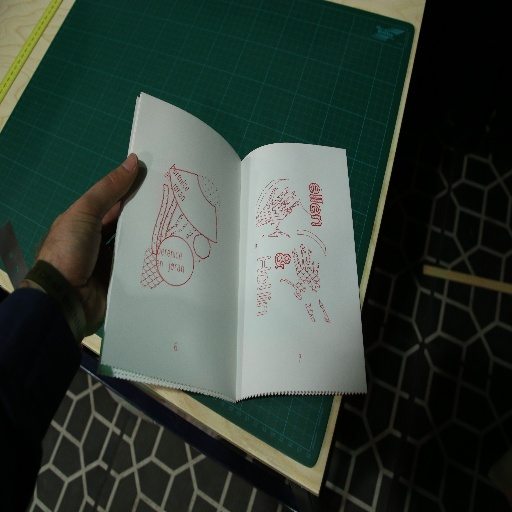hand: (27, 142, 144, 310)
